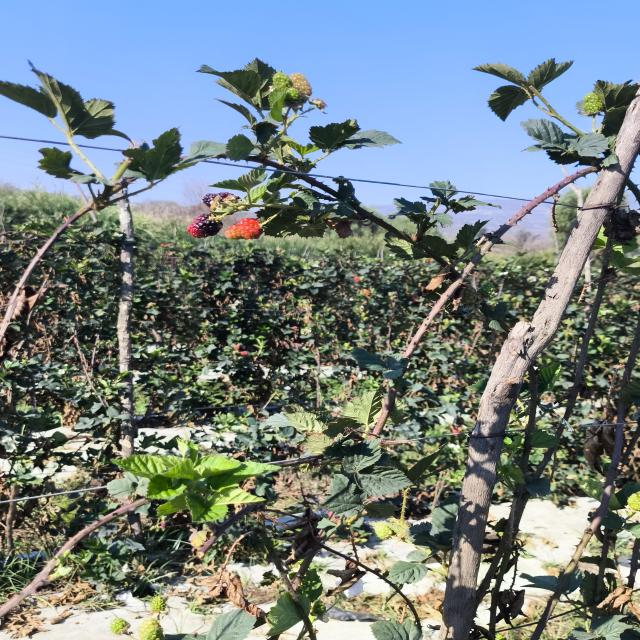maduro: (202, 192, 239, 209)
marron: (187, 214, 222, 238)
naranja: (225, 218, 262, 239)
verde: (289, 73, 312, 97), (584, 93, 603, 116), (272, 72, 291, 89), (285, 85, 301, 102)
